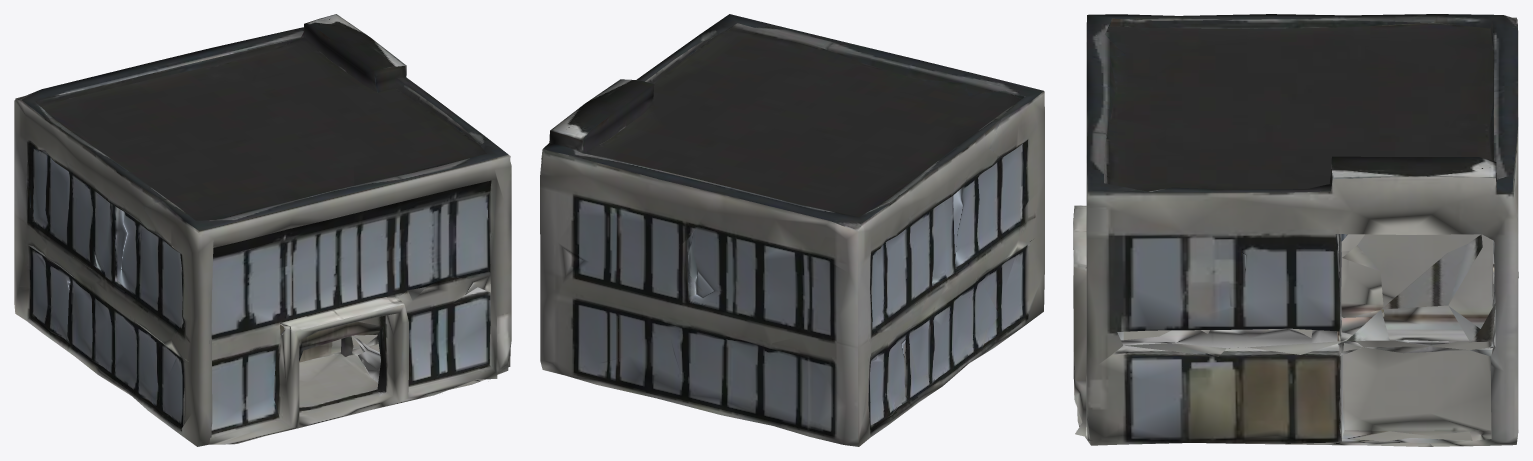
Rendered from now-office.glb.
The picture shows the model from 3 angles, left to right: view 1: azimuth 30°, elevation 25°; view 2: azimuth 150°, elevation 25°; view 3: azimuth 270°, elevation 25°; orthographic projection. The views are drawn at different scales.
Parts seen in each view (by area): view 1: world; view 2: world; view 3: world.
Part boxes in pixels (left/top/right/bottom): world: left=14, top=14, right=511, bottom=446; world: left=540, top=14, right=1044, bottom=446; world: left=1073, top=14, right=1518, bottom=446.
Bounding box in the file's own units: 1.42 × 1 × 1.48.
Materials: 1 (1 with a texture image).
